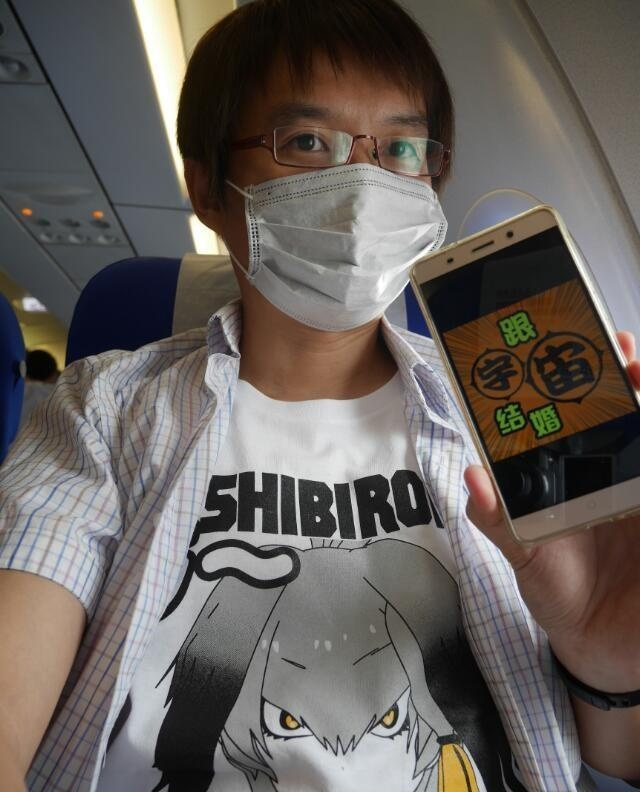Mask: (225, 89, 464, 327)
